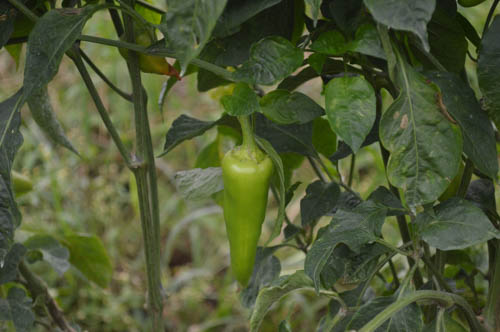ChiliPepper: (219, 152, 274, 286)
